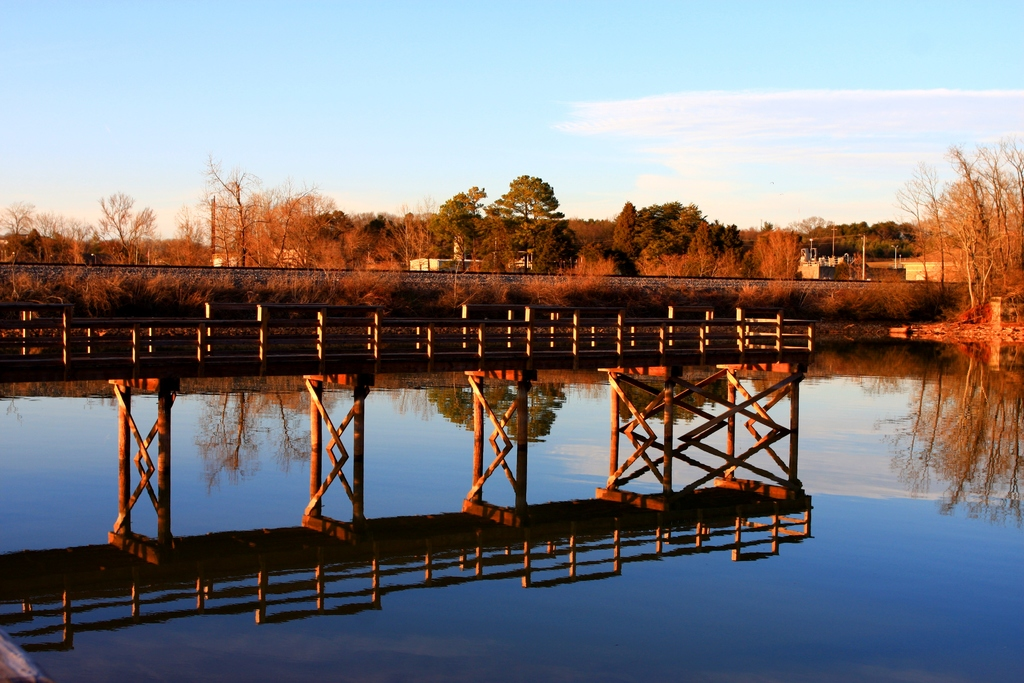Tree: (588, 132, 1023, 316), (0, 149, 478, 265), (479, 166, 583, 281)
